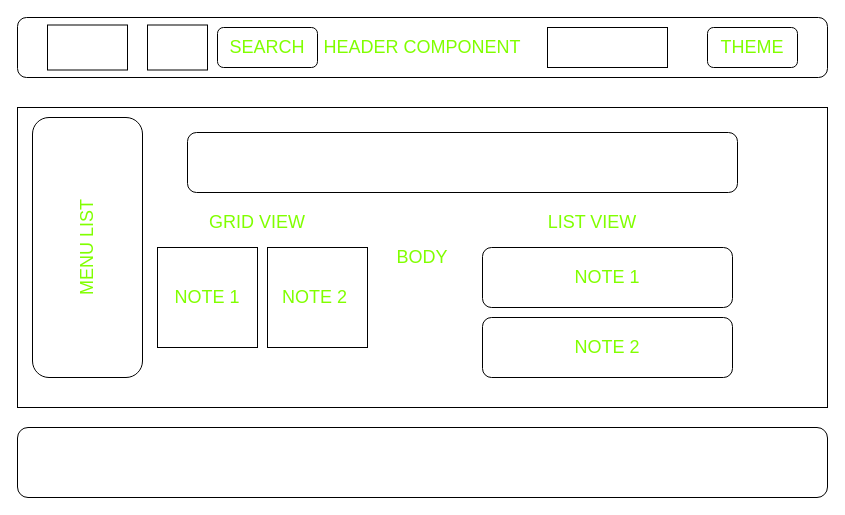
Image size: 845x515. Some labels were removed from this diagram. Here are the shapes that lost their labels. From the top down, the centre of each, then its label:
point 87,47: MENU
point 177,47: LOGO
point 607,47: VIEW
point 462,162: TAKE NOTES
point 422,462: FOOTER
